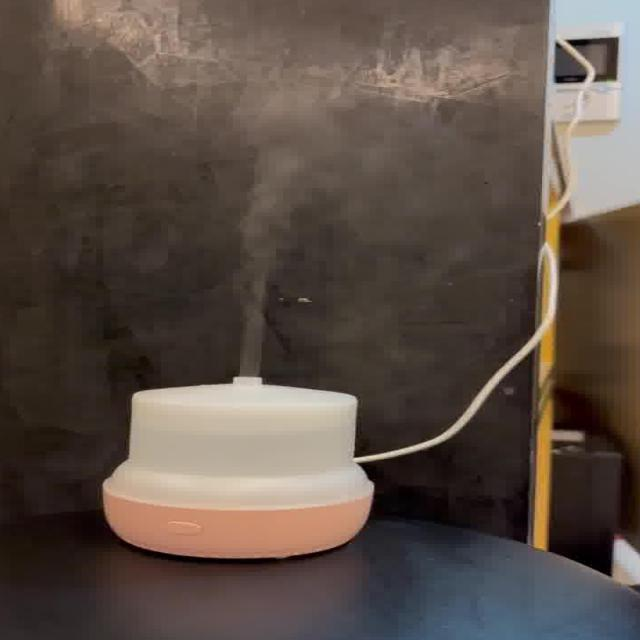fire: (230, 93, 413, 375)
